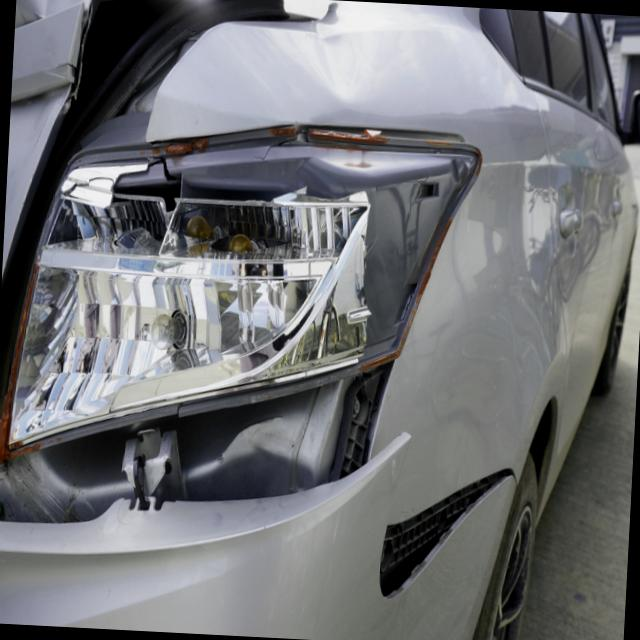Cabossage: (291, 21, 382, 104)
Dechirure: (372, 454, 526, 617)
Phare abime: (0, 108, 491, 487)
